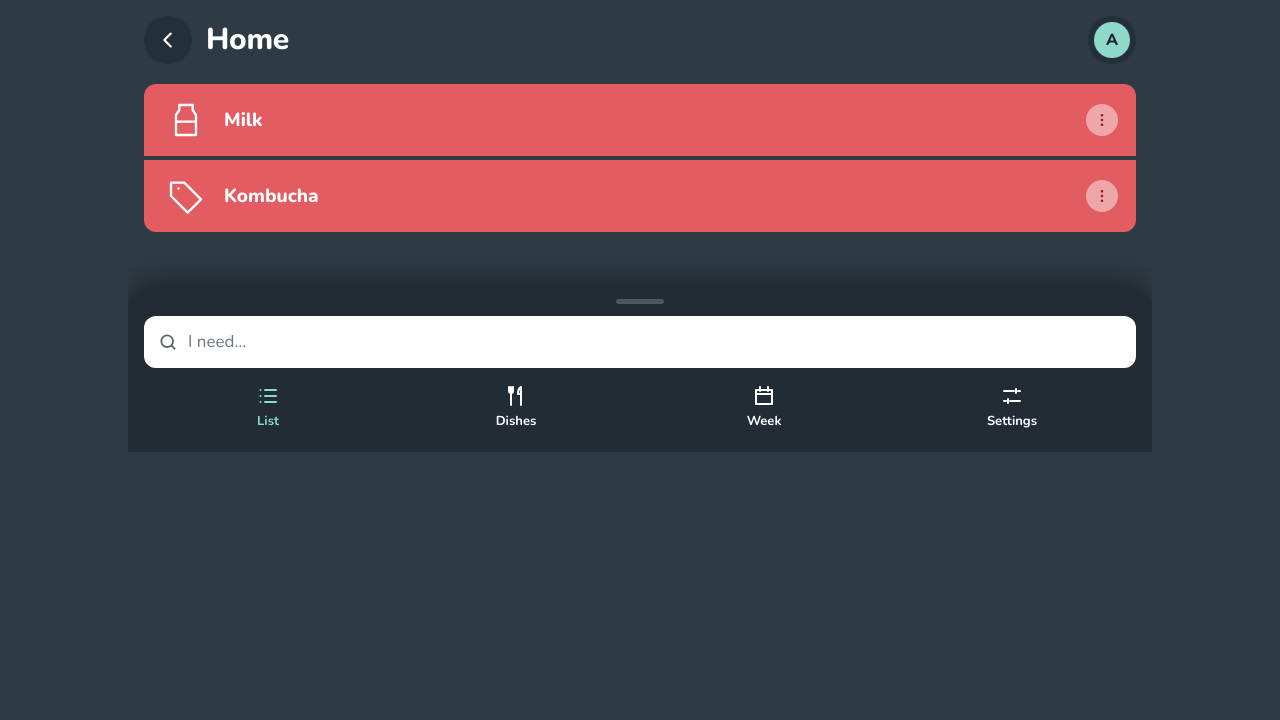
it: list item ⋮ menu › goes back to the actions when a picker is cancelled
The width and height of the screenshot is (1280, 720).
Click the button named "More options for Milk" at (1102, 120), box [1076,94,1128,146]
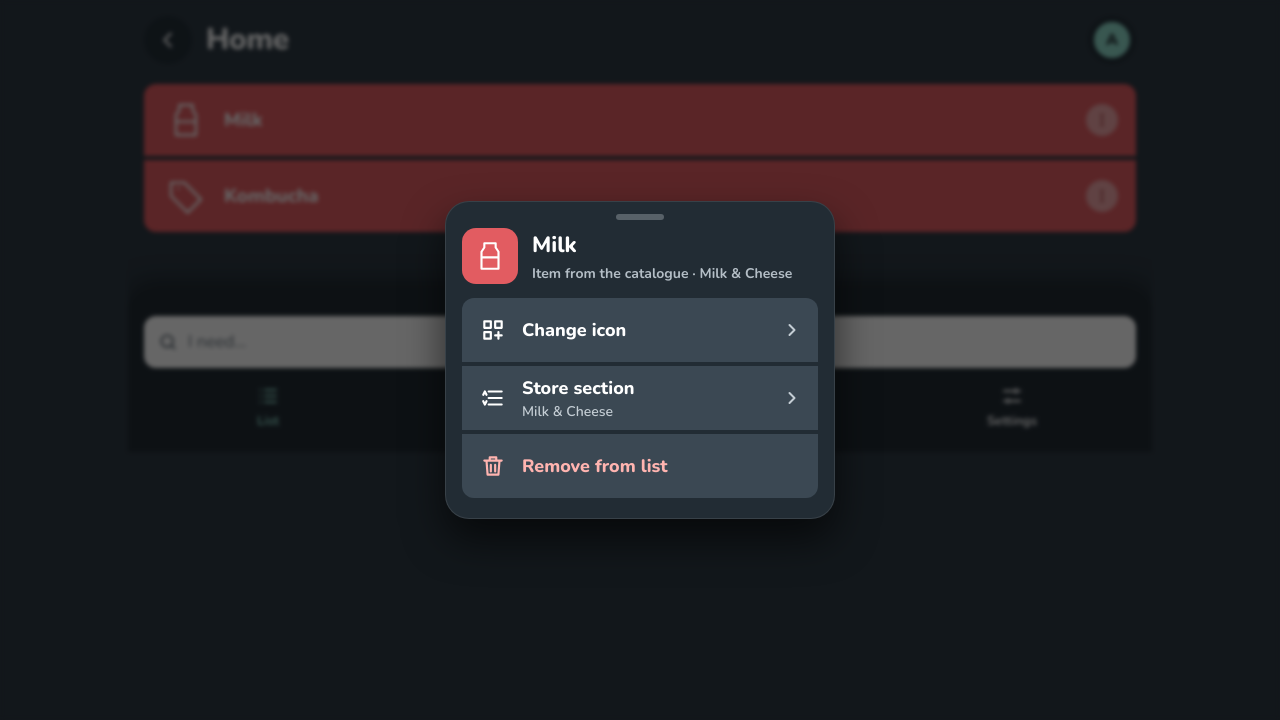
Click the button "Change icon" at (574, 330), box [462,298,818,362]
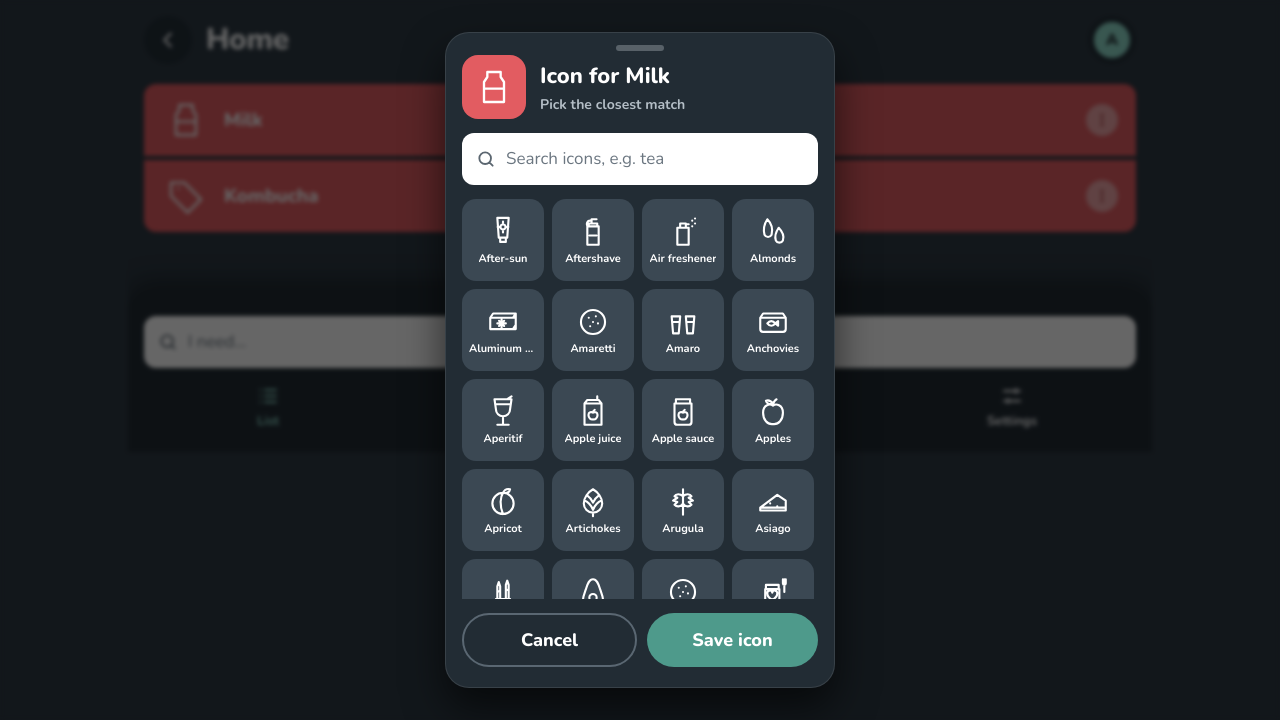
Click the button "Cancel" at (550, 640), box [462,613,637,667]
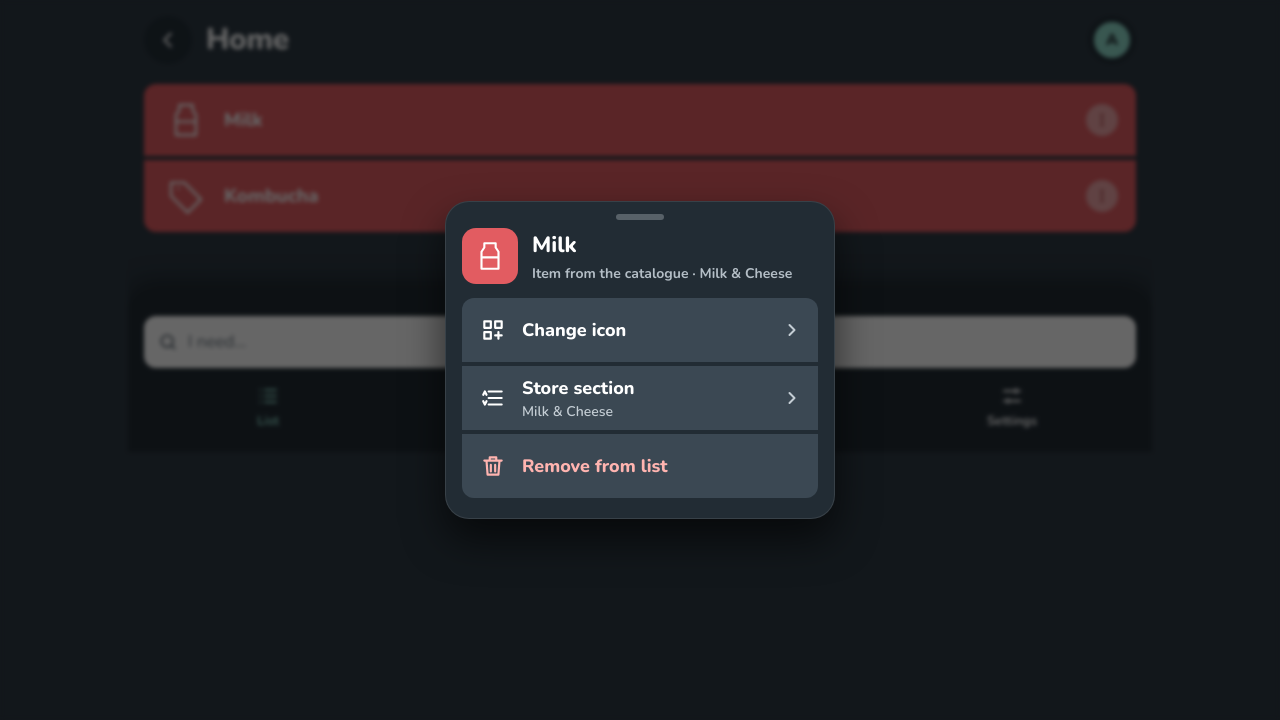
Expected: the element with test id "item-menu" is shown, [446,224,834,498]
Click the button "Store section Milk & Cheese" at (578, 388), box [462,366,818,430]
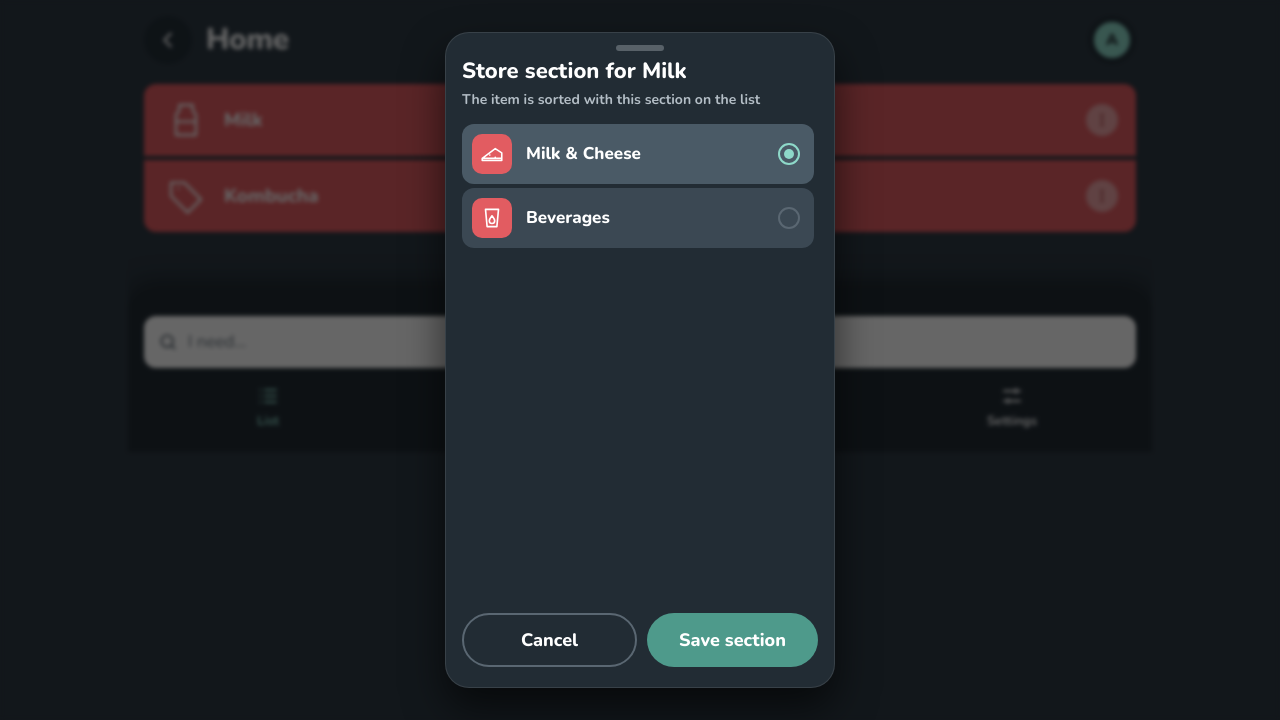
Click the button "Cancel" at (550, 640), box [462,613,637,667]
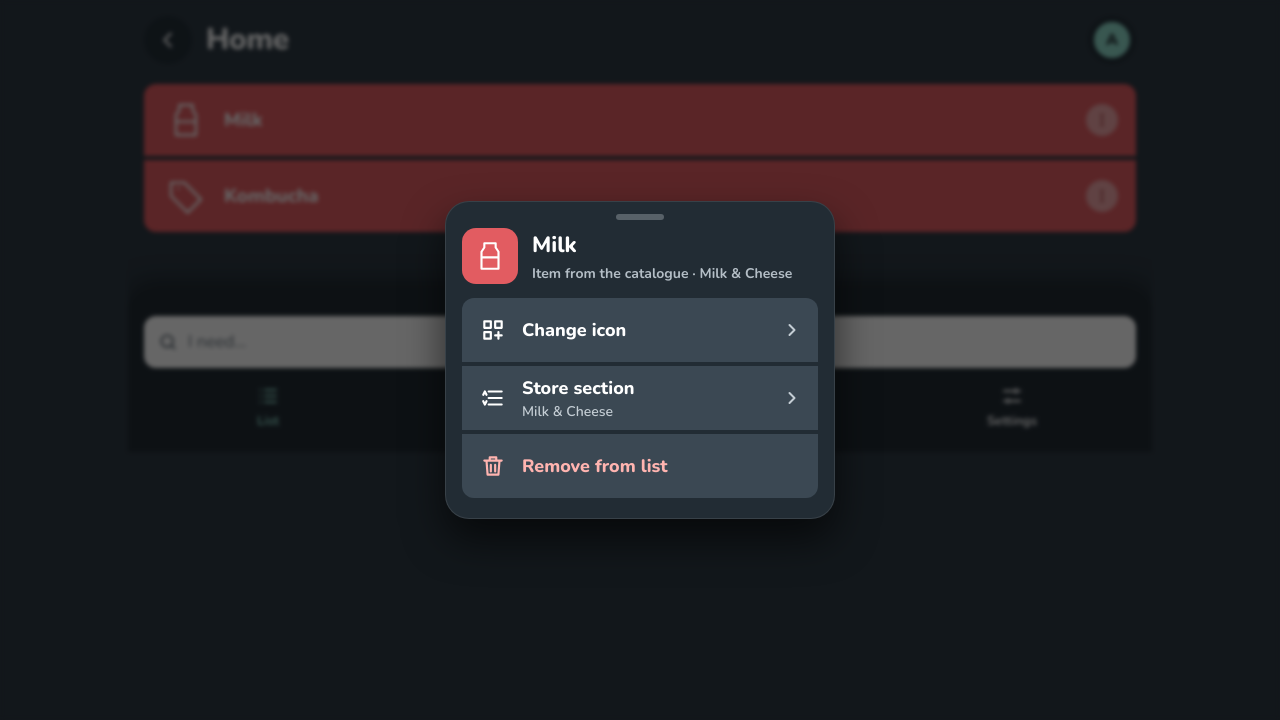
Expected: the element with test id "item-menu" is shown, [446,224,834,498]
